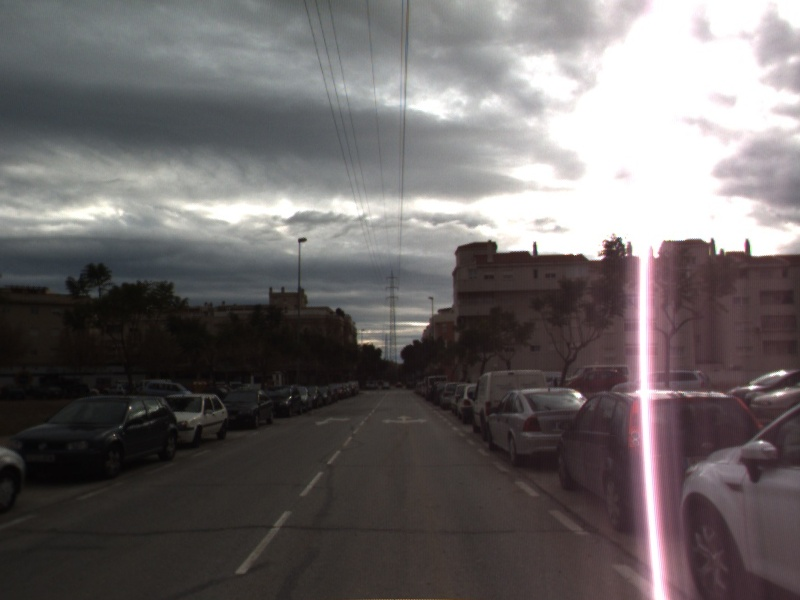STRAIGHT_LEFT_RIGHT: (379, 413, 430, 426)
